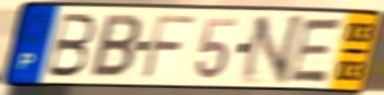5: (194, 16, 241, 81)
B: (87, 12, 144, 80), (42, 11, 98, 80)
E: (285, 16, 347, 85)
F: (139, 13, 199, 82)
N: (237, 12, 308, 86)
